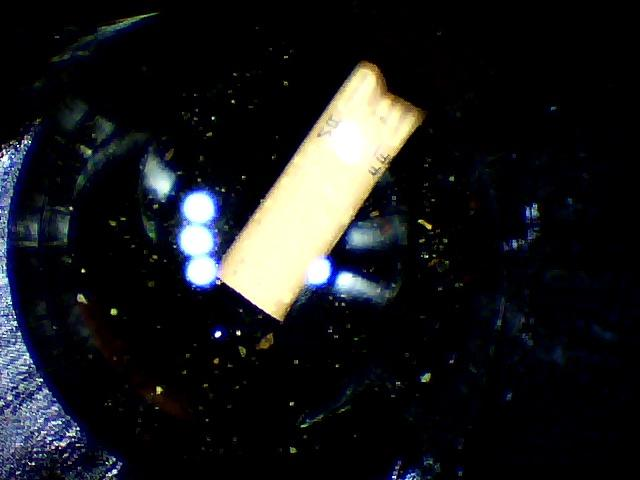megot: (197, 53, 434, 328)
